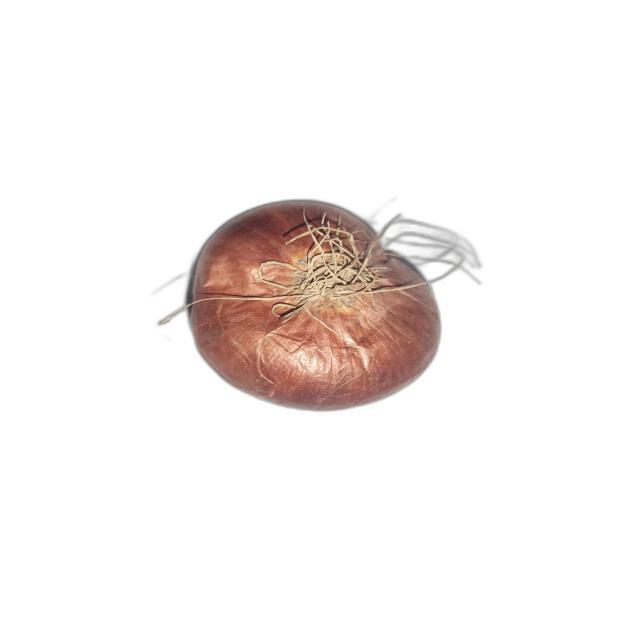onion: (188, 201, 442, 414)
